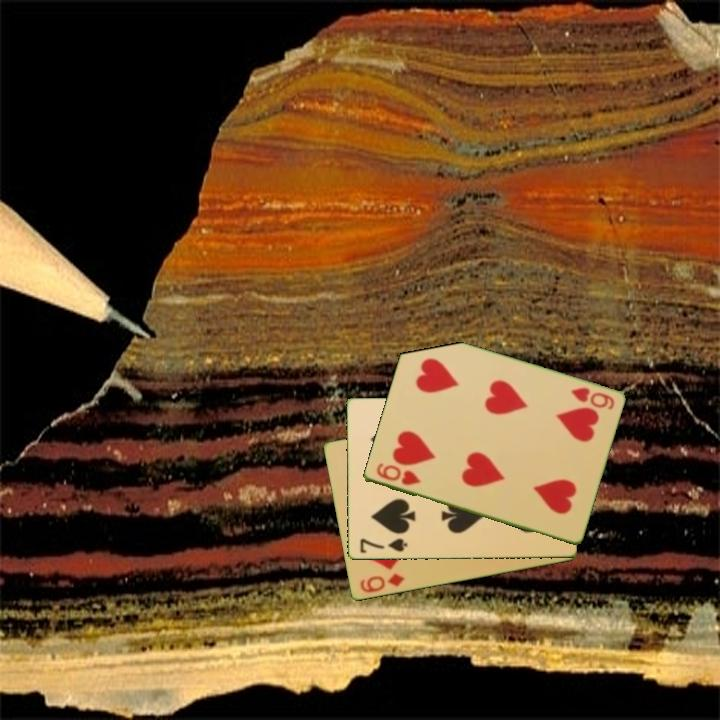6d: (356, 570, 407, 596)
6h: (567, 384, 617, 413), (372, 460, 423, 488)
7s: (356, 535, 410, 556)
